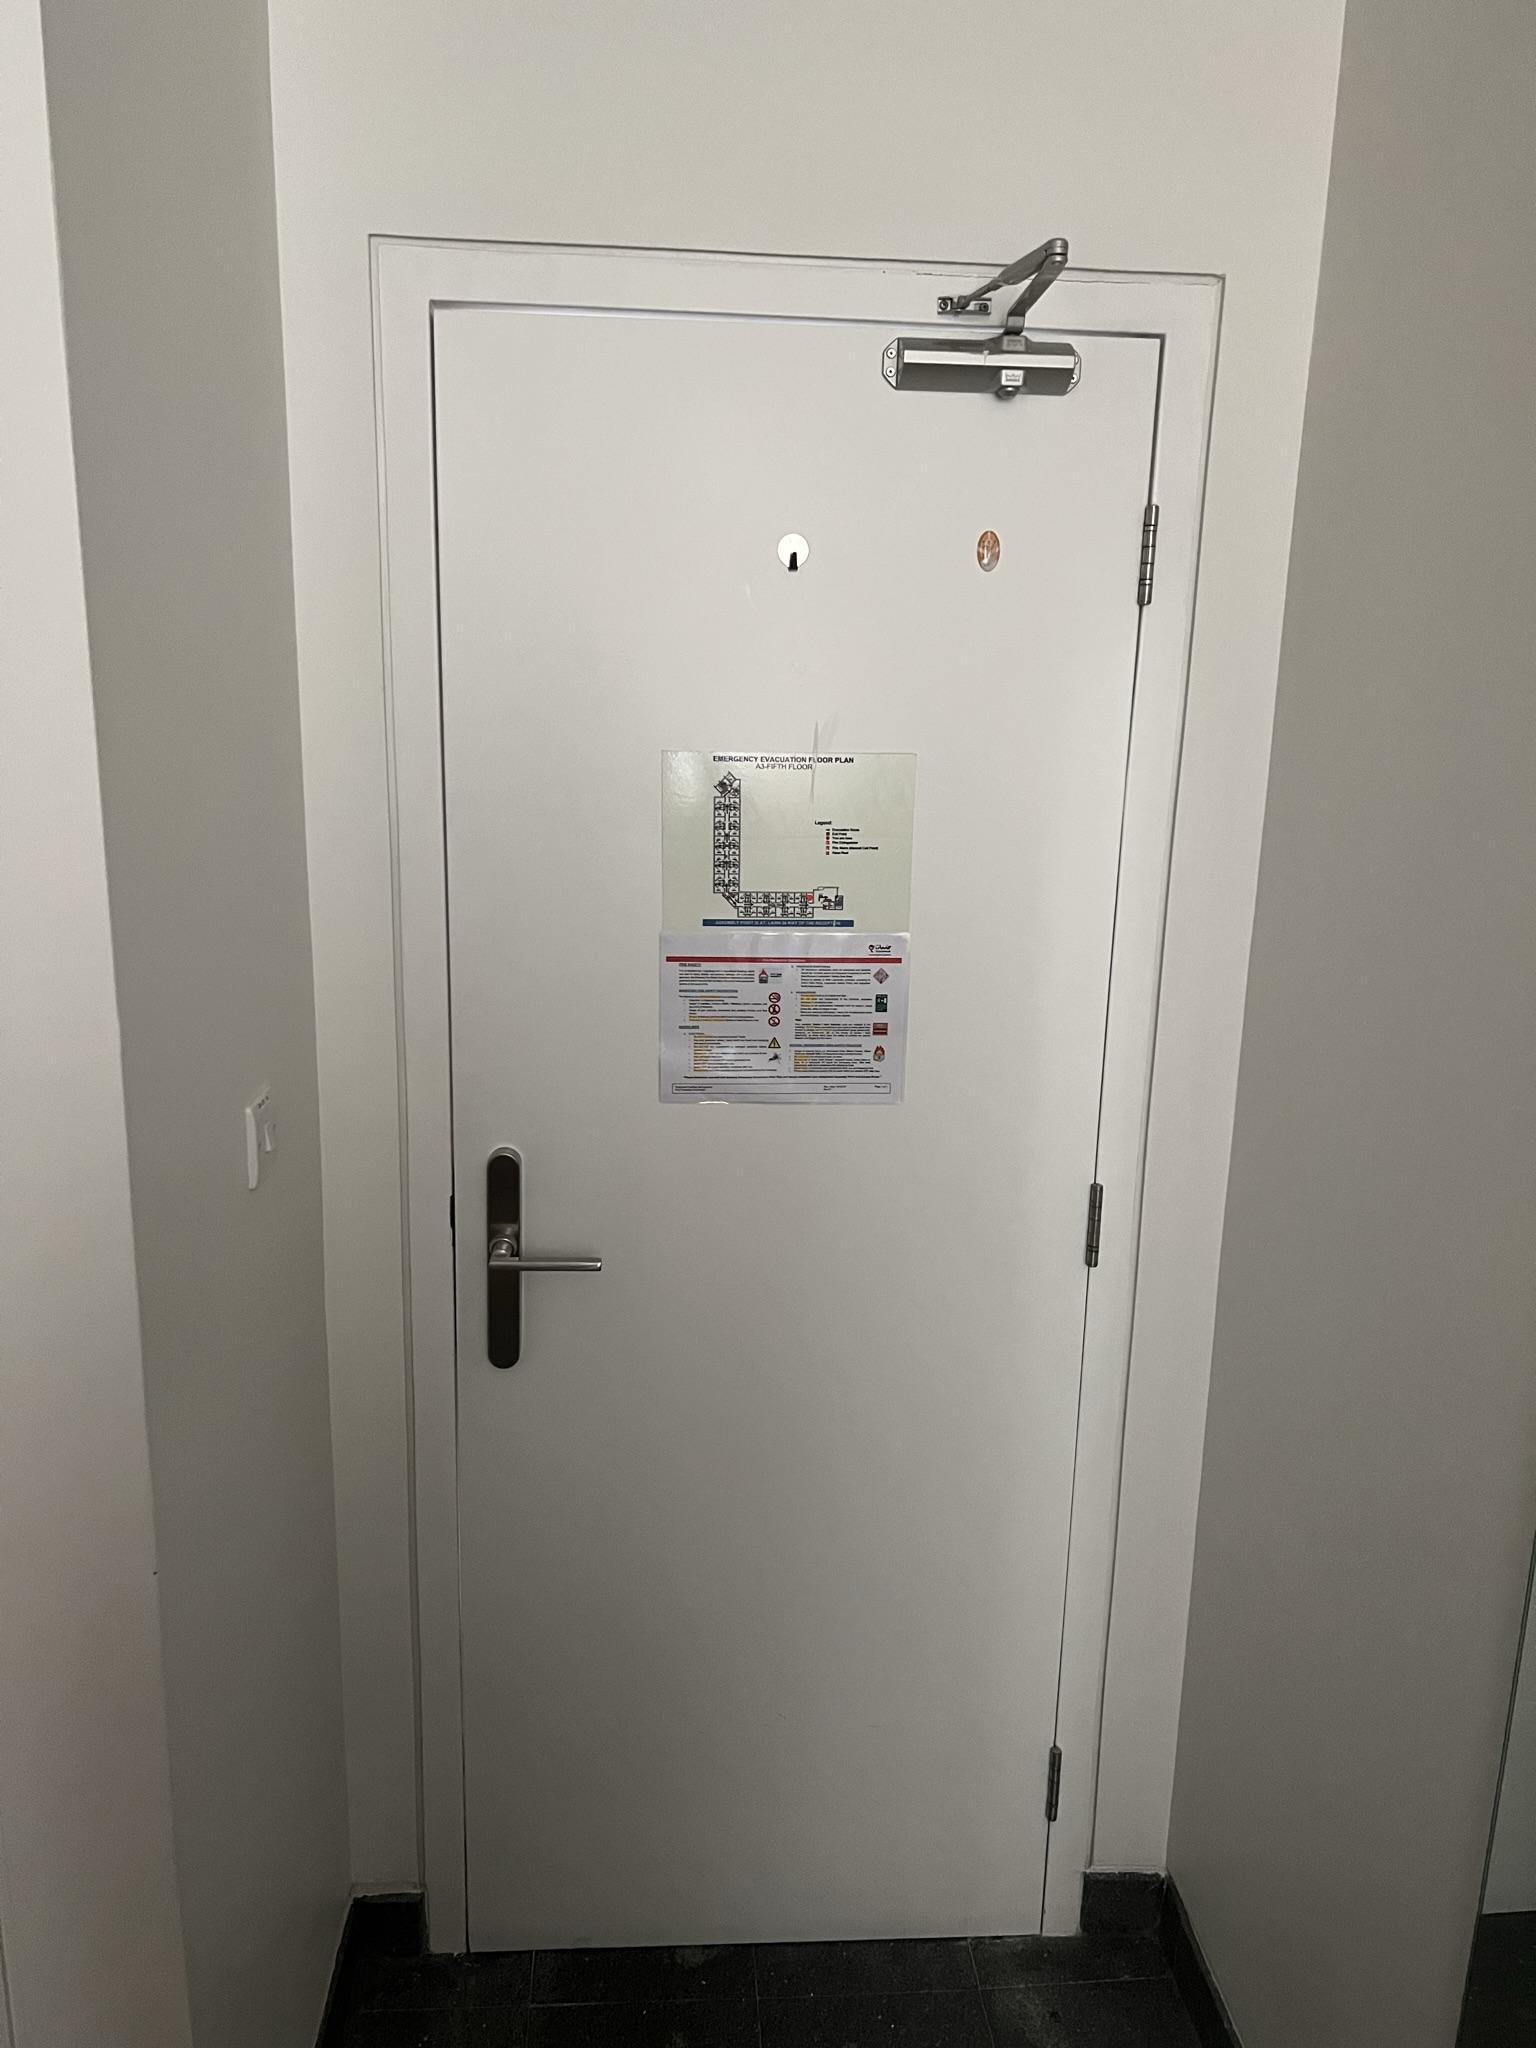door: (437, 306, 1073, 1935)
handle: (481, 1142, 610, 1379)
